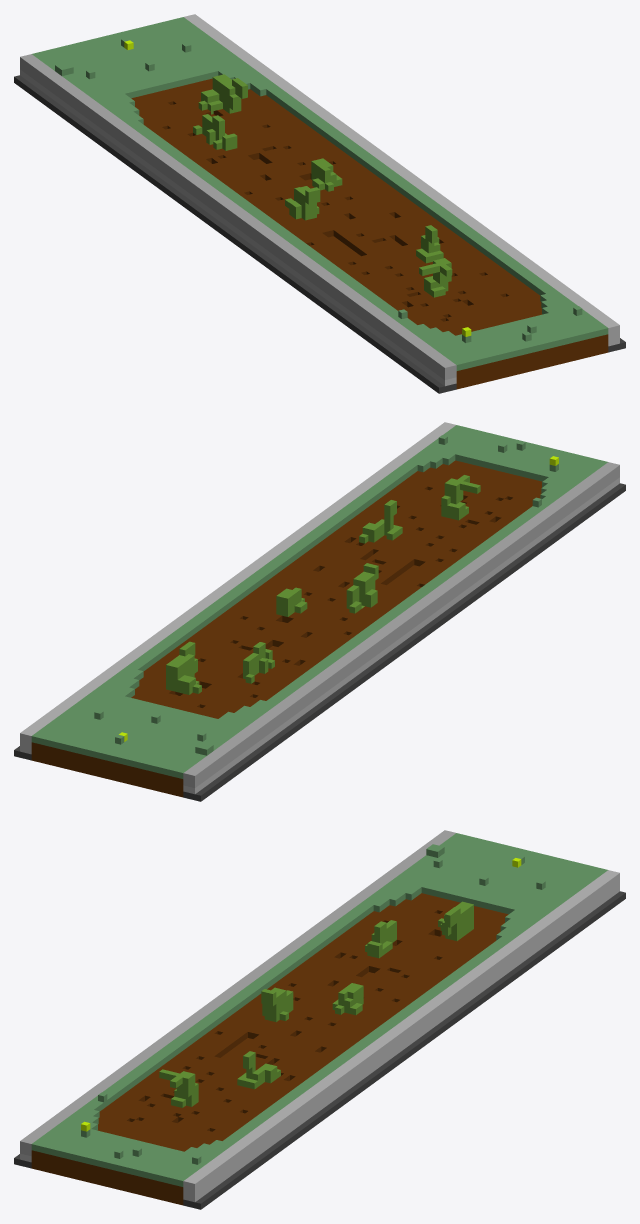
The model's file is median2.obj.
3 renders of one model, top to bottom at view 1: azimuth 30°, elevation 25°; view 2: azimuth 150°, elevation 25°; view 3: azimuth 330°, elevation 25°, orthographic.
Size of the model in its own units: 32 by 8 by 126.
1 material, 1 textured.
